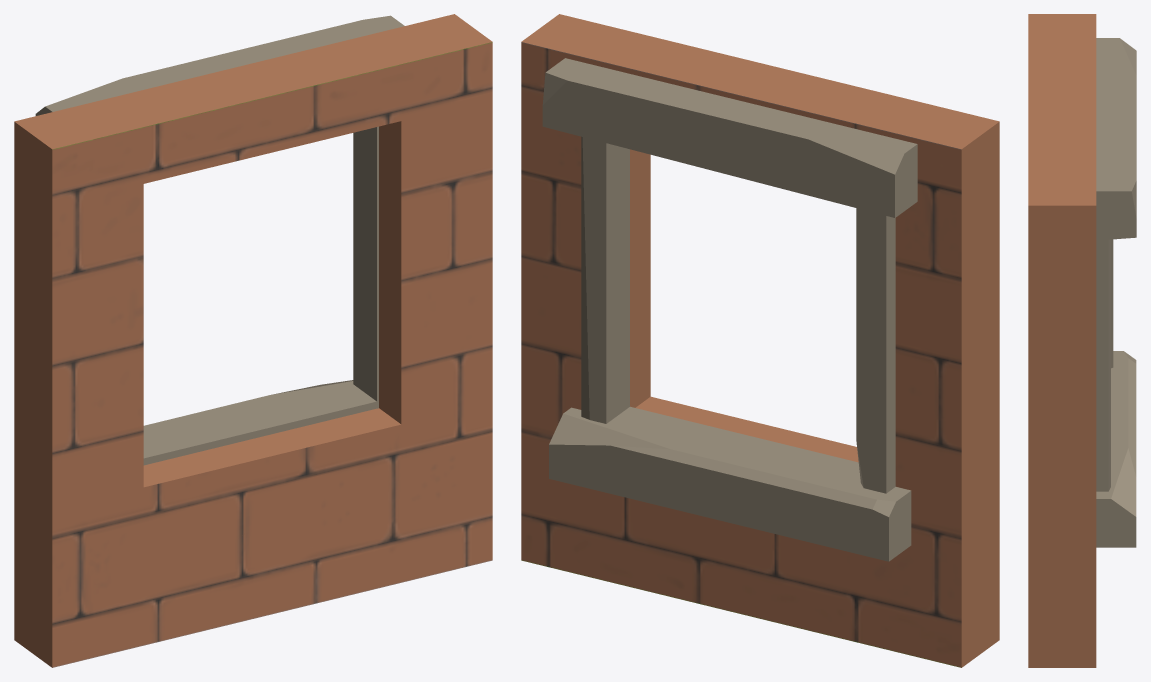
File: OfficeWindowWall.fbx
3 views of the same model, side by side, from view 1: azimuth 30°, elevation 25°; view 2: azimuth 150°, elevation 25°; view 3: azimuth 270°, elevation 25° (orthographic). The views are drawn at different scales.
Parts seen in each view (by area): view 1: Wall_Window.087; view 2: Wall_Window.087; view 3: Wall_Window.087.
Part boxes in pixels (x1,y1,x2,y2): Wall_Window.087: [14, 14, 492, 667]; Wall_Window.087: [521, 14, 999, 667]; Wall_Window.087: [1028, 14, 1136, 667].
Size of the model in its own units: 2 by 2.25 by 0.4771.
